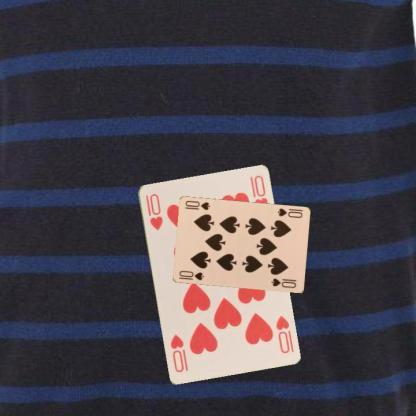10h: (142, 190, 165, 232), (272, 312, 290, 354)
10s: (274, 206, 304, 220), (176, 268, 205, 282)
